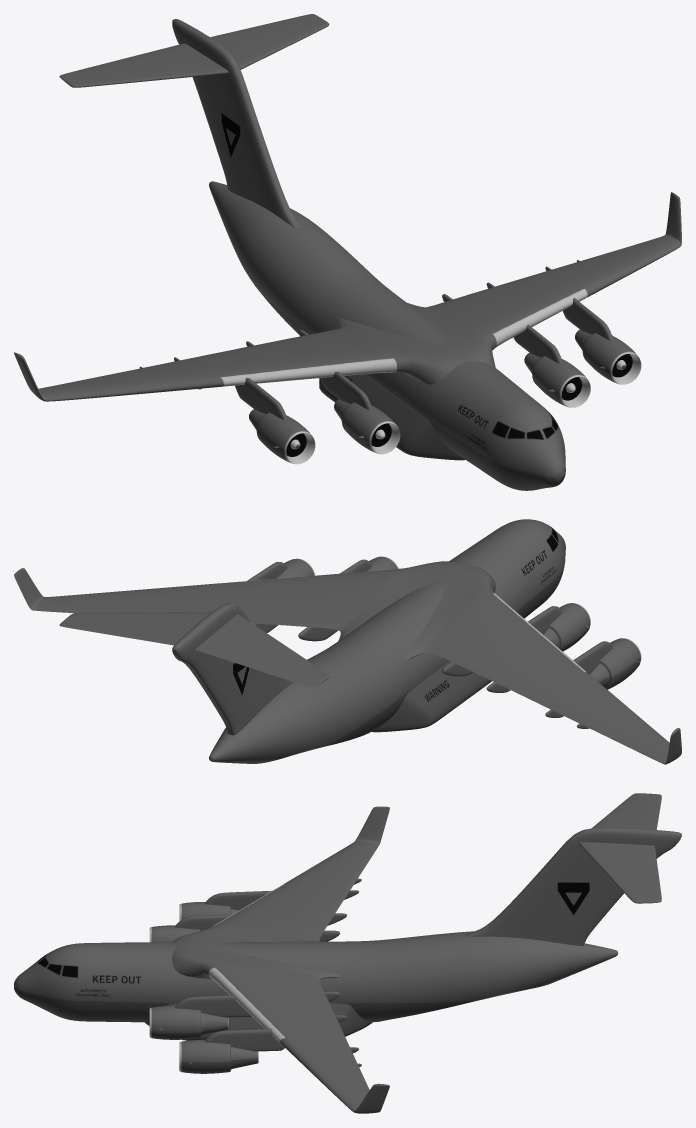
3 renders of one model, top to bottom at view 1: azimuth 30°, elevation 25°; view 2: azimuth 150°, elevation 25°; view 3: azimuth 270°, elevation 25°, orthographic. The views are drawn at different scales.
Parts seen in each view (by area): view 1: PlaneC17; view 2: PlaneC17; view 3: PlaneC17.
Part boxes in pixels (left/top/right/bottom): PlaneC17: left=14, top=14, right=681, bottom=490; PlaneC17: left=14, top=519, right=681, bottom=764; PlaneC17: left=14, top=793, right=681, bottom=1113.
Size of the model in its own units: 60.18 by 19.28 by 60.95.
Materials: 1 (1 with a texture image).
